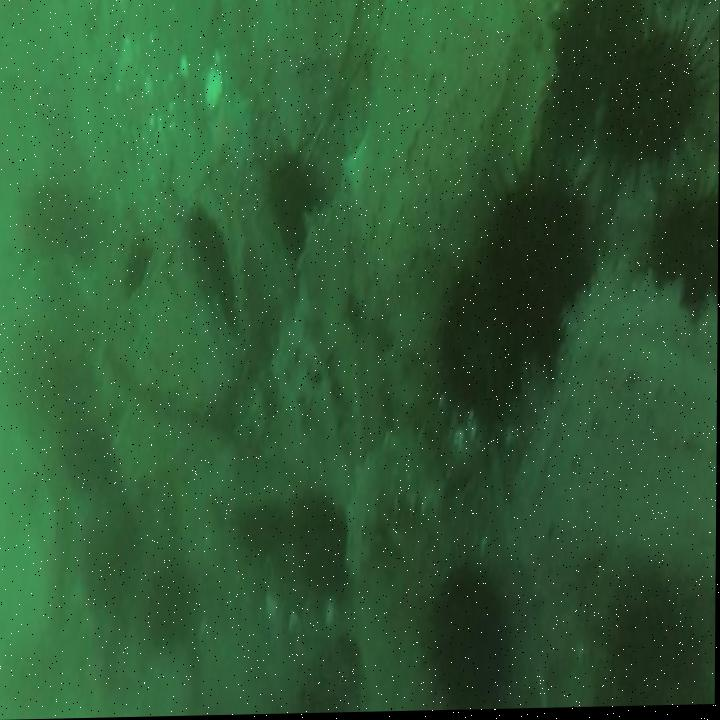echinus: (486, 182, 585, 334), (427, 565, 512, 712), (606, 39, 702, 157), (440, 282, 520, 412), (605, 608, 705, 709), (650, 192, 719, 307), (79, 515, 134, 610), (269, 158, 325, 250), (564, 0, 638, 63), (299, 503, 350, 594), (548, 59, 599, 134), (147, 569, 189, 645)
holothurian: (354, 432, 439, 581)
